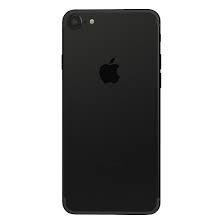iphone: (60, 9, 162, 215)
